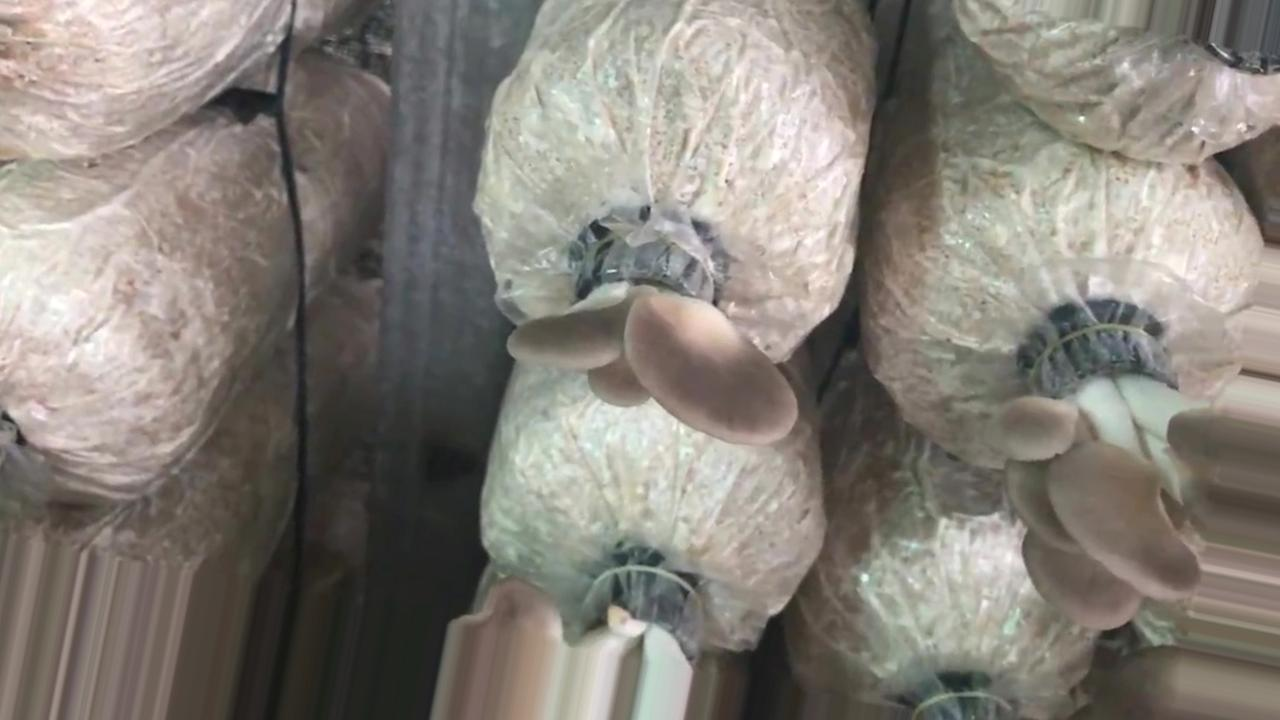nam: (1020, 302, 1280, 601), (520, 218, 782, 443)
